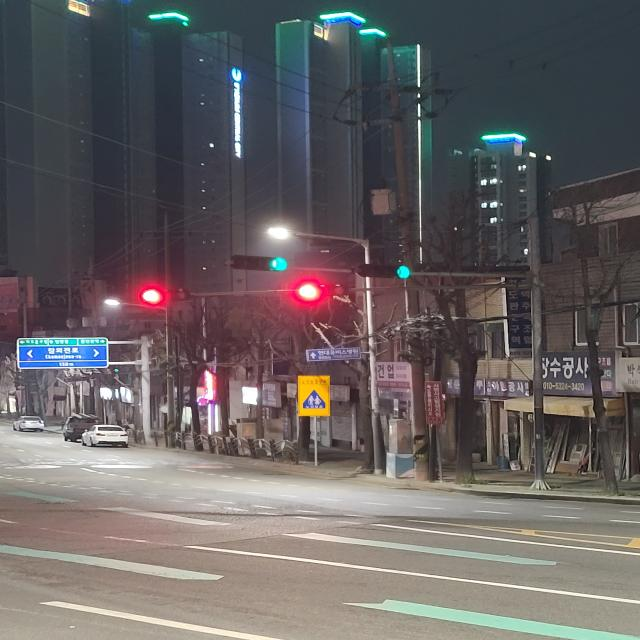Green Light: (269, 256, 288, 272), (392, 264, 411, 279)
Red Light: (140, 289, 163, 303), (298, 282, 317, 298)
